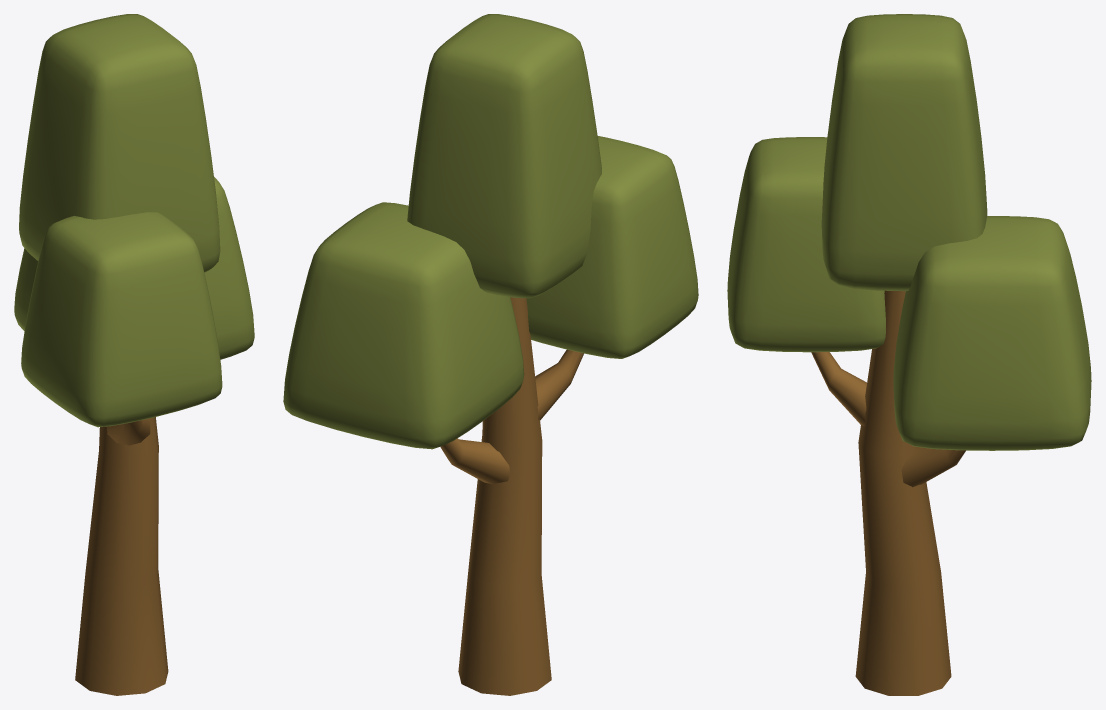
File: TreeNO.fbx
The picture shows the model from 3 angles, left to right: view 1: azimuth 30°, elevation 25°; view 2: azimuth 150°, elevation 25°; view 3: azimuth 270°, elevation 25°; orthographic projection.
Visible parts, largest first — view 1: Circle.090; view 2: Circle.090; view 3: Circle.090.
Part boxes in pixels (x1=…): Circle.090: x1=14, y1=14, x2=254, y2=695; Circle.090: x1=283, y1=14, x2=698, y2=695; Circle.090: x1=727, y1=14, x2=1091, y2=695.
Size of the model in its own units: 317 by 750 by 383.
1 material, 1 textured.
